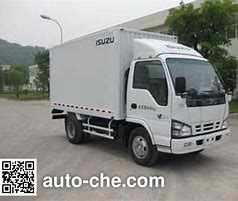smalltruck: (36, 22, 232, 166)
